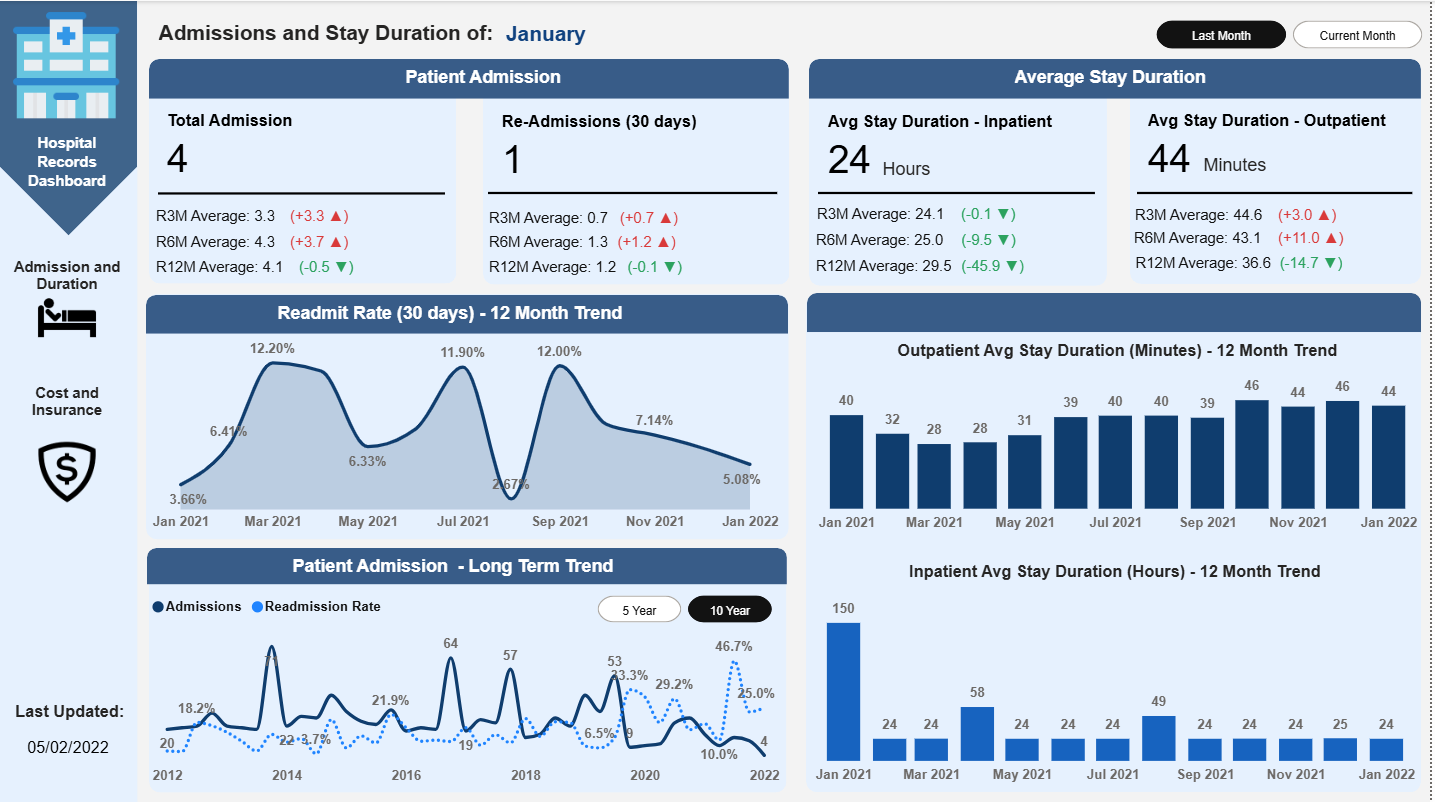

Layout of this report page (visuals, bound fields, positions):
{"tool":"powerbi","page":{"name":" Admissions and Duration ","canvas":[1280,720],"ordinal":0},"visuals":[{"type":"shape","box":[721.8,262.7,550.9,446.4],"z":0},{"type":"shape","box":[724.3,52,266.8,203.2],"z":1000},{"type":"shape","box":[1011.6,52.3,260.7,201.5],"z":2000},{"type":"shape","box":[133.6,490,570.9,219.1],"z":3000},{"type":"shape","box":[130.8,262.6,575.6,220],"z":4000},{"type":"shape","box":[432.4,52,274.5,202.3],"z":5000},{"type":"lineChart","title":"Readmit Rate (30 days) - 12 Month Trend","fields":{"Y":["Measure.Readmit Rate (30d • R12M • ReportingMonth • Month-of-readmit)"],"Category":["DateTable.Month Start"]},"box":[130.9,261.8,571.8,220.9],"z":6000},{"type":"cardVisual","fields":{"Data":["Measure.Avg Stay Duration (Inpatient • CM • h)"]},"box":[724.3,82.8,240.8,79],"z":7000},{"type":"cardVisual","fields":{"Data":["Measure.Avg Stay Duration (Outpatient • CM • min)"]},"box":[1011.3,81.9,248.5,79],"z":8000},{"type":"columnChart","title":"Outpatient Avg Stay Duration (Minutes)  - 12 Month Trend","fields":{"Category":["DateTable.Month Start"],"Y":["Measure.Outpatient Avg Stay Duration R12M (Trend)"]},"box":[727.3,304.5,547.3,178.2],"z":9000},{"type":"columnChart","title":"Inpatient Avg Stay Duration (Hours)  - 12 Month Trend","fields":{"Category":["DateTable.Month Start"],"Y":["Measure.Inpatient Avg Stay Duration R12M (Trend)"]},"box":[724.3,502.8,548,206.1],"z":10000},{"type":"lineChart","title":"Patient Admission  - Long Term Trend","fields":{"Y":["LT Selector.Admissions (LT • Quarter)"],"Category":["DateTable.Quarter Start"],"Y2":["LT Selector.Readmission Rate (30d • LT • Quarter • IP)"]},"box":[130.9,522.7,572.7,186.4],"z":11000},{"type":"shape","box":[133.9,52,275.5,201.3],"z":12000},{"type":"cardVisual","fields":{"Data":["Measure.Total Admission (KPI)"]},"box":[132.9,81.9,275.5,85.7],"z":13000},{"type":"cardVisual","fields":{"Data":["Measure.Readmissions R3M KPI title","Measure.Readmissions R3M label"]},"box":[429.3,164.7,244.2,50.4],"z":14000},{"type":"cardVisual","fields":{"Data":["Measure.Readmission Patients (30d)"]},"box":[432.4,82.8,218.6,82.8],"z":15000},{"type":"cardVisual","fields":{"Data":["Measure.Admissions R6M KPI title","Measure.Admissions R6M label"]},"box":[130.8,188,251.9,47.5],"z":16000},{"type":"advancedSlicerVisual","fields":{"Values":["LT Selector.Label"]},"box":[529.7,527.8,167.6,34.7],"z":17000},{"type":"cardVisual","fields":{"Data":["Measure.Admissions R3M KPI title","Measure.Admissions R3M label"]},"box":[130.8,164.7,251.9,46.5],"z":18000},{"type":"advancedSlicerVisual","fields":{"Values":["ReportingPeriod.Label"]},"box":[1031,12.6,249,35.9],"z":19000},{"type":"cardVisual","fields":{"Data":["Measure.Admissions R12M KPI title","Measure.Admissions R12M label"]},"box":[130.8,212.2,266.5,43.6],"z":20000},{"type":"cardVisual","fields":{"Data":["Measure.Readmissions R6M KPI title","Measure.Readmissions R6M label"]},"box":[429.3,191.9,241.3,41.7],"z":21000},{"type":"cardVisual","fields":{"Data":["Measure.Readmissions R12M KPI title","Measure.Readmissions R12M label"]},"box":[429.3,212.2,259.7,43.6],"z":22000},{"type":"shape","box":[133.9,52,573.1,35.6],"z":23000},{"type":"textbox","box":[202.3,54.9,460.4,29.9],"z":24000},{"type":"shape","box":[724.3,52,548,35.6],"z":25000},{"type":"textbox","box":[903.4,54.9,215.7,32.7],"z":26000},{"type":"cardVisual","fields":{"Data":["Measure.Avg Stay Duration Inpatient R3M KPI title","Measure.Avg Stay Duration Inpatient R3M label"]},"box":[722.3,160.8,269.7,51],"z":27000},{"type":"cardVisual","fields":{"Data":["Measure.Avg Stay Duration Inpatient R6M KPI title","Measure.Avg Stay Duration Inpatient R6M label"]},"box":[721.9,189.9,270.3,40.7],"z":28000},{"type":"cardVisual","fields":{"Data":["Measure.Avg Stay Duration Inpatient R12M KPI title","Measure.Avg Stay Duration Inpatient R12M label"]},"box":[721.9,211.2,270.3,42.6],"z":29000},{"type":"cardVisual","fields":{"Data":["Measure.Avg Stay Duration Outpatient R6M KPI title","Measure.Avg Stay Duration Outpatient R6M label"]},"box":[1006.8,188,268.4,40.7],"z":30000},{"type":"cardVisual","fields":{"Data":["Measure.Avg Stay Duration Outpatient R12M KPI title","Measure.Avg Stay Duration Outpatient R12M label"]},"box":[1011.6,210.3,268.4,40.7],"z":31000},{"type":"textbox","box":[785,136.8,91.5,51],"z":32000},{"type":"textbox","box":[1072.9,133.9,99.2,31.8],"z":33000},{"type":"shape","box":[732.9,165.7,248.5,12.5],"z":34000},{"type":"cardVisual","fields":{"Data":["Measure.Avg Stay Duration Outpatient R3M KPI title","Measure.Avg Stay Duration Outpatient R3M label"]},"box":[1007.7,167.6,267.4,40.7],"z":35000},{"type":"shape","box":[437.3,165.7,259.1,12.5],"z":36000},{"type":"shape","box":[141.6,166.6,257.2,11.6],"z":37000},{"type":"shape","box":[1018,165.7,246.6,12.5],"z":38000},{"type":"shape","box":[0,0,123,720],"z":39000},{"type":"image","title":"Cost and Insurance","box":[0,343.6,120,130.9],"z":41000},{"type":"textbox","box":[0,616.2,125,32.5],"z":44000},{"type":"cardVisual","fields":{"Data":["Measure.Max Date"]},"box":[0,616.2,122.5,65],"z":45000},{"type":"card","fields":{"Values":["Measure.Current Month Label"]},"box":[437,15.2,103.9,30.4],"z":46000},{"type":"textbox","box":[137,12.5,314.3,35.8],"z":47000},{"type":"shape","box":[131,262.9,575,34.7],"z":48000},{"type":"shape","box":[131.9,490.2,573.1,32.7],"z":49000},{"type":"shape","box":[722.7,261.8,550,35.5],"z":50000},{"type":"shape","box":[0,0,122.7,210],"z":50500},{"type":"textbox","box":[243.7,265.8,386.2,31.8],"z":51000},{"type":"textbox","box":[257.2,492.2,359.2,27.9],"z":52000},{"type":"image","box":[1.8,0,115.5,115.5],"z":52500},{"type":"image","title":"Admission and Duration","box":[0,230.9,120,75.5],"z":53000},{"type":"textbox","box":[3.6,112.7,112.7,73.6],"z":53500}]}

Visuals, with their boxes in screenshot pixels (x1, y1, x2, y2), scaled from the page's 1280x720 canvas onto the 1435x802 screenshot:
shape: (left=809, top=293, right=1427, bottom=790)
shape: (left=812, top=58, right=1111, bottom=284)
shape: (left=1134, top=58, right=1426, bottom=283)
shape: (left=150, top=546, right=790, bottom=790)
shape: (left=147, top=293, right=792, bottom=538)
shape: (left=485, top=58, right=793, bottom=283)
"Readmit Rate (30 days) - 12 Month Trend" lineChart: (left=147, top=292, right=788, bottom=538)
cardVisual - Measure.Avg Stay Duration (Inpatient • CM • h): (left=812, top=92, right=1082, bottom=180)
cardVisual - Measure.Avg Stay Duration (Outpatient • CM • min): (left=1134, top=91, right=1412, bottom=179)
"Outpatient Avg Stay Duration (Minutes)  - 12 Month Trend" columnChart: (left=815, top=339, right=1429, bottom=538)
"Inpatient Avg Stay Duration (Hours)  - 12 Month Trend" columnChart: (left=812, top=560, right=1426, bottom=790)
"Patient Admission  - Long Term Trend" lineChart: (left=147, top=582, right=789, bottom=790)
shape: (left=150, top=58, right=459, bottom=282)
cardVisual - Measure.Total Admission (KPI): (left=149, top=91, right=458, bottom=187)
cardVisual - Measure.Readmissions R3M KPI title x Measure.Readmissions R3M label: (left=481, top=183, right=755, bottom=240)
cardVisual - Measure.Readmission Patients (30d): (left=485, top=92, right=730, bottom=184)
cardVisual - Measure.Admissions R6M KPI title x Measure.Admissions R6M label: (left=147, top=209, right=429, bottom=262)
advancedSlicerVisual - LT Selector.Label: (left=594, top=588, right=782, bottom=627)
cardVisual - Measure.Admissions R3M KPI title x Measure.Admissions R3M label: (left=147, top=183, right=429, bottom=235)
advancedSlicerVisual - ReportingPeriod.Label: (left=1156, top=14, right=1434, bottom=54)
cardVisual - Measure.Admissions R12M KPI title x Measure.Admissions R12M label: (left=147, top=236, right=445, bottom=285)
cardVisual - Measure.Readmissions R6M KPI title x Measure.Readmissions R6M label: (left=481, top=214, right=752, bottom=260)
cardVisual - Measure.Readmissions R12M KPI title x Measure.Readmissions R12M label: (left=481, top=236, right=772, bottom=285)
shape: (left=150, top=58, right=793, bottom=98)
textbox: (left=227, top=61, right=743, bottom=94)
shape: (left=812, top=58, right=1426, bottom=98)
textbox: (left=1013, top=61, right=1255, bottom=98)
cardVisual - Measure.Avg Stay Duration Inpatient R3M KPI title x Measure.Avg Stay Duration Inpatient R3M label: (left=810, top=179, right=1112, bottom=236)
cardVisual - Measure.Avg Stay Duration Inpatient R6M KPI title x Measure.Avg Stay Duration Inpatient R6M label: (left=809, top=212, right=1112, bottom=257)
cardVisual - Measure.Avg Stay Duration Inpatient R12M KPI title x Measure.Avg Stay Duration Inpatient R12M label: (left=809, top=235, right=1112, bottom=283)
cardVisual - Measure.Avg Stay Duration Outpatient R6M KPI title x Measure.Avg Stay Duration Outpatient R6M label: (left=1129, top=209, right=1430, bottom=255)
cardVisual - Measure.Avg Stay Duration Outpatient R12M KPI title x Measure.Avg Stay Duration Outpatient R12M label: (left=1134, top=234, right=1434, bottom=280)
textbox: (left=880, top=152, right=983, bottom=209)
textbox: (left=1203, top=149, right=1314, bottom=185)
shape: (left=822, top=185, right=1100, bottom=198)
cardVisual - Measure.Avg Stay Duration Outpatient R3M KPI title x Measure.Avg Stay Duration Outpatient R3M label: (left=1130, top=187, right=1430, bottom=232)
shape: (left=490, top=185, right=781, bottom=198)
shape: (left=159, top=186, right=447, bottom=198)
shape: (left=1141, top=185, right=1418, bottom=198)
shape: (left=0, top=0, right=138, bottom=801)
"Cost and Insurance" image: (left=0, top=383, right=135, bottom=529)
textbox: (left=0, top=686, right=140, bottom=723)
cardVisual - Measure.Max Date: (left=0, top=686, right=137, bottom=759)
card - Measure.Current Month Label: (left=490, top=17, right=606, bottom=51)
textbox: (left=154, top=14, right=506, bottom=54)
shape: (left=147, top=293, right=791, bottom=331)
shape: (left=148, top=546, right=790, bottom=582)
shape: (left=810, top=292, right=1427, bottom=331)
shape: (left=0, top=0, right=138, bottom=234)
textbox: (left=273, top=296, right=706, bottom=331)
textbox: (left=288, top=548, right=691, bottom=579)
image: (left=2, top=0, right=132, bottom=129)
"Admission and Duration" image: (left=0, top=257, right=135, bottom=341)
textbox: (left=4, top=126, right=130, bottom=208)
